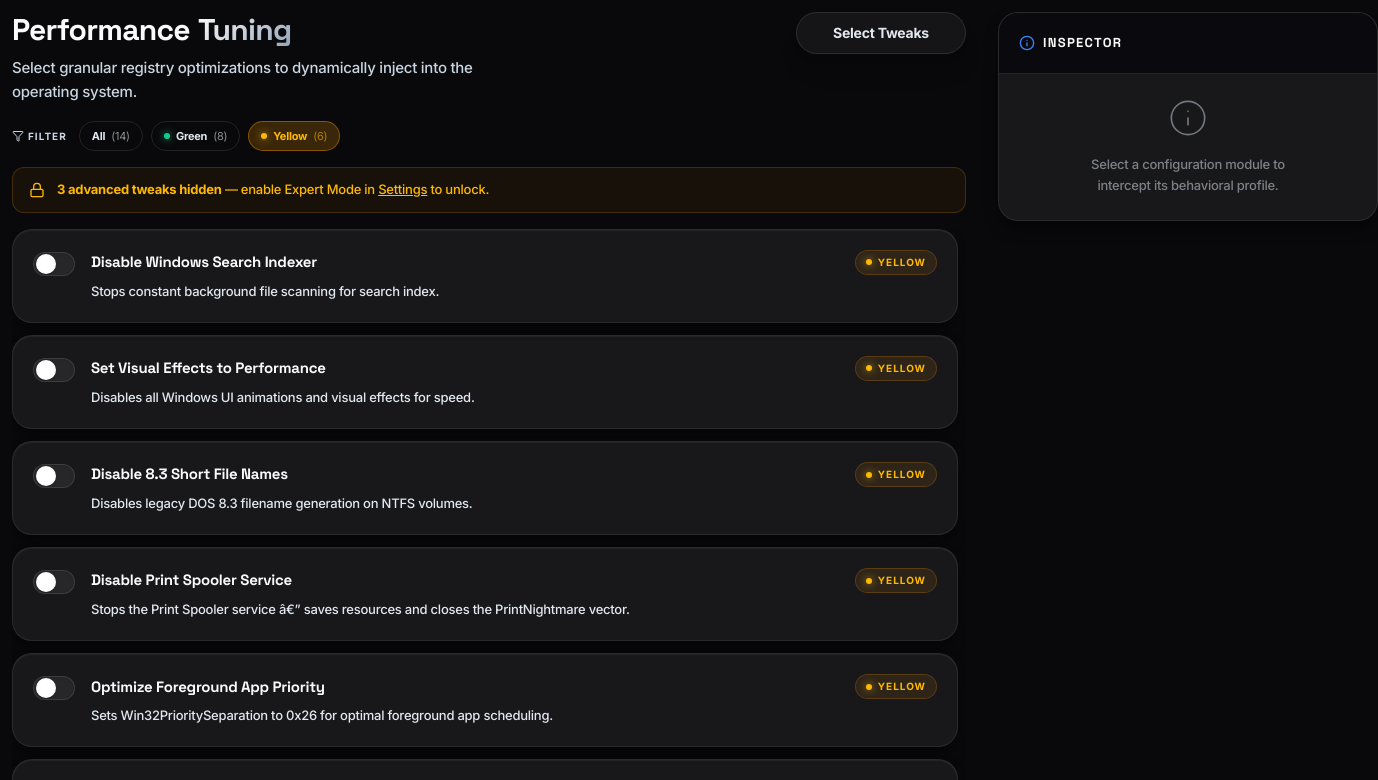
Test: TweaksPage › resets to showing all tweaks when All chip is clicked
// Filter to Yellow
Step 1. Click the button "Yellow (6)" → (294, 136), box [248,121,340,151]
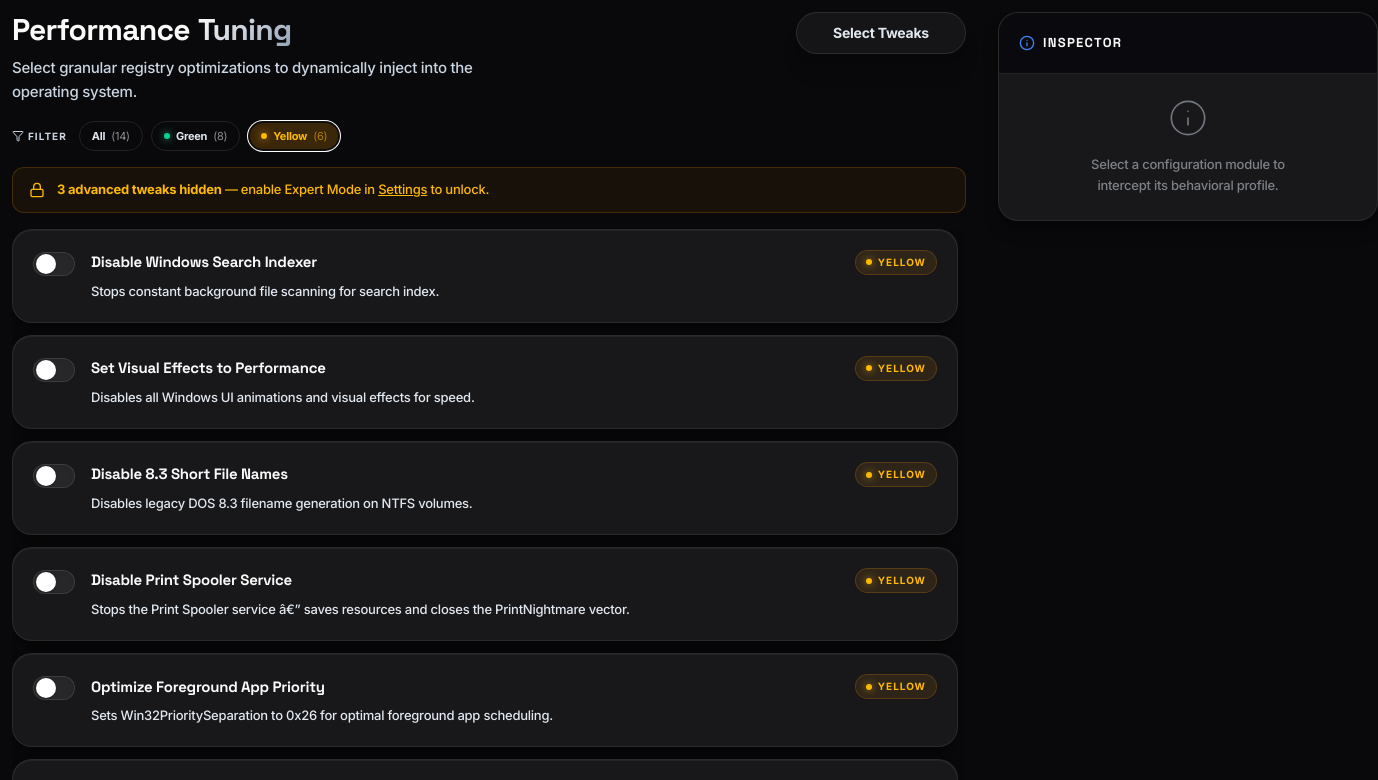
Check: the text "Disable SysMain (Superfetch)" is not shown
// Click "All" to reset
Step 2. Click the button "All (14)" → (111, 136), box [79,121,143,151]
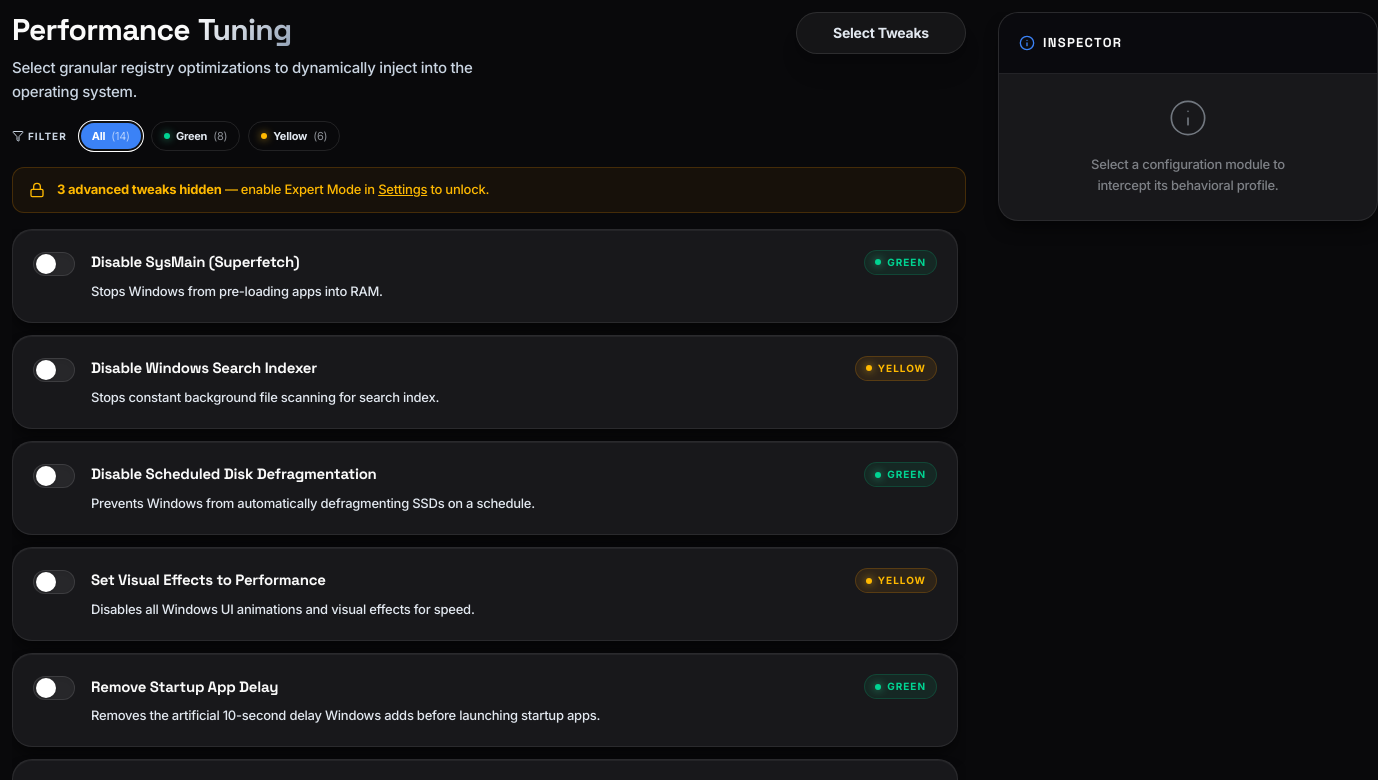
Check: the heading "Disable Windows Search Indexer" is shown, box [91,357,317,380]
Check: the heading "Disable SysMain (Superfetch)" is shown, box [91,251,299,274]
